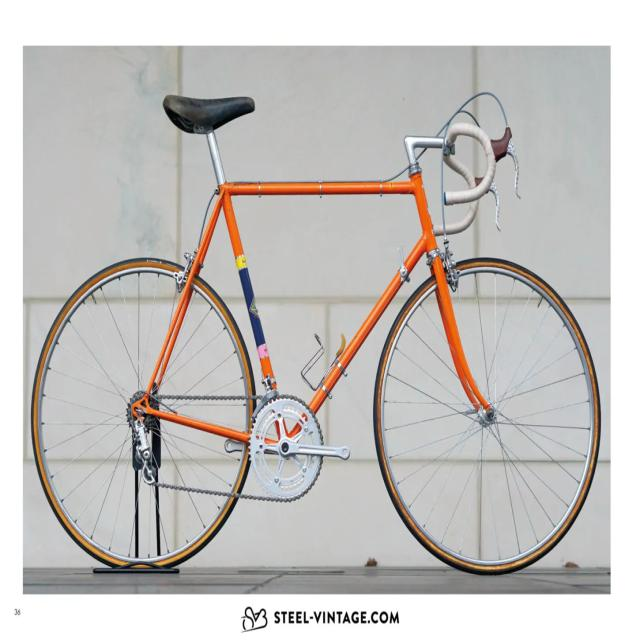road-bike: (32, 89, 604, 578)
